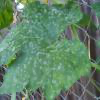Squash Powdery mildew leaf: (0, 1, 86, 97)
